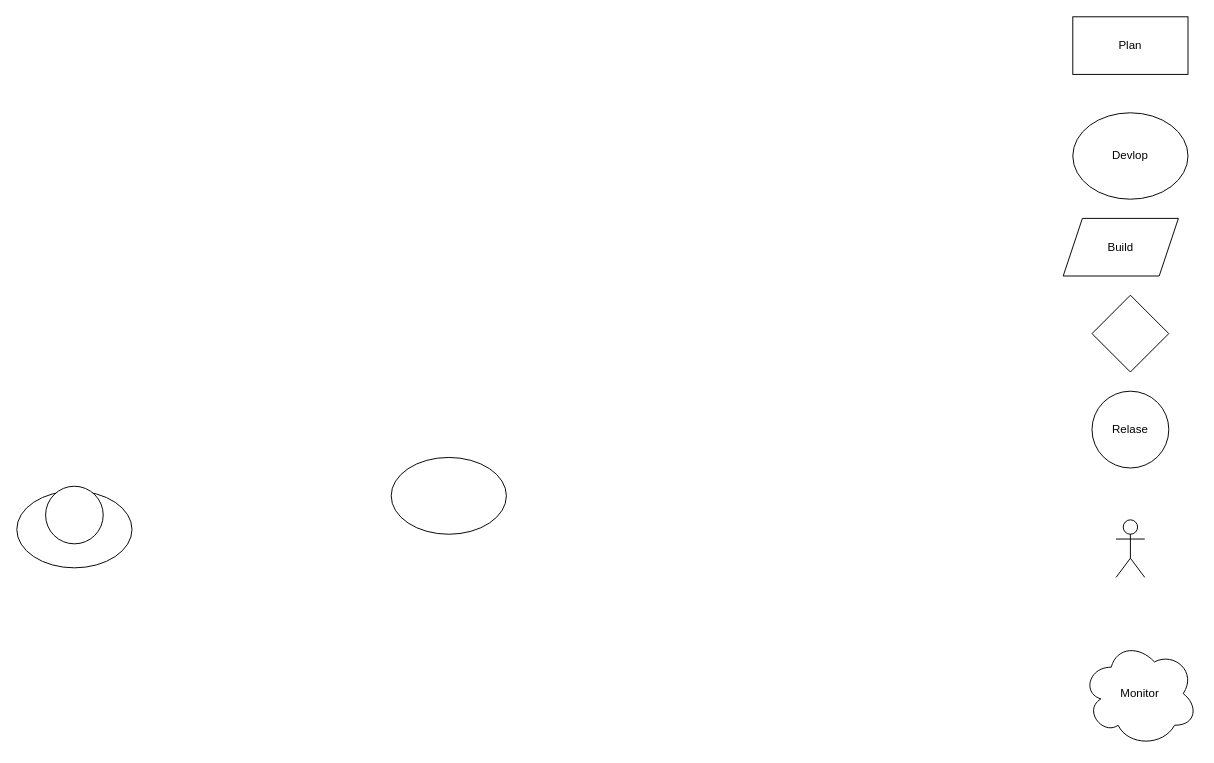
This 1214x763 diagram has some shape labels left out. The shapes that lost their labels are listed below. From the top down, each one's box as (x1, y1, x2, y2) in pixels, then its label:
(1091, 294, 1169, 372): Test
(1115, 519, 1145, 577): Actor
